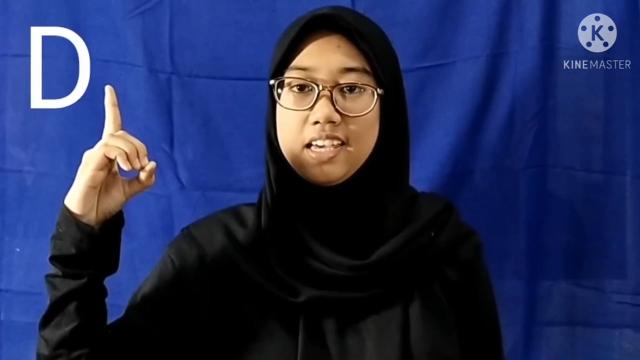D: (65, 84, 157, 221)
